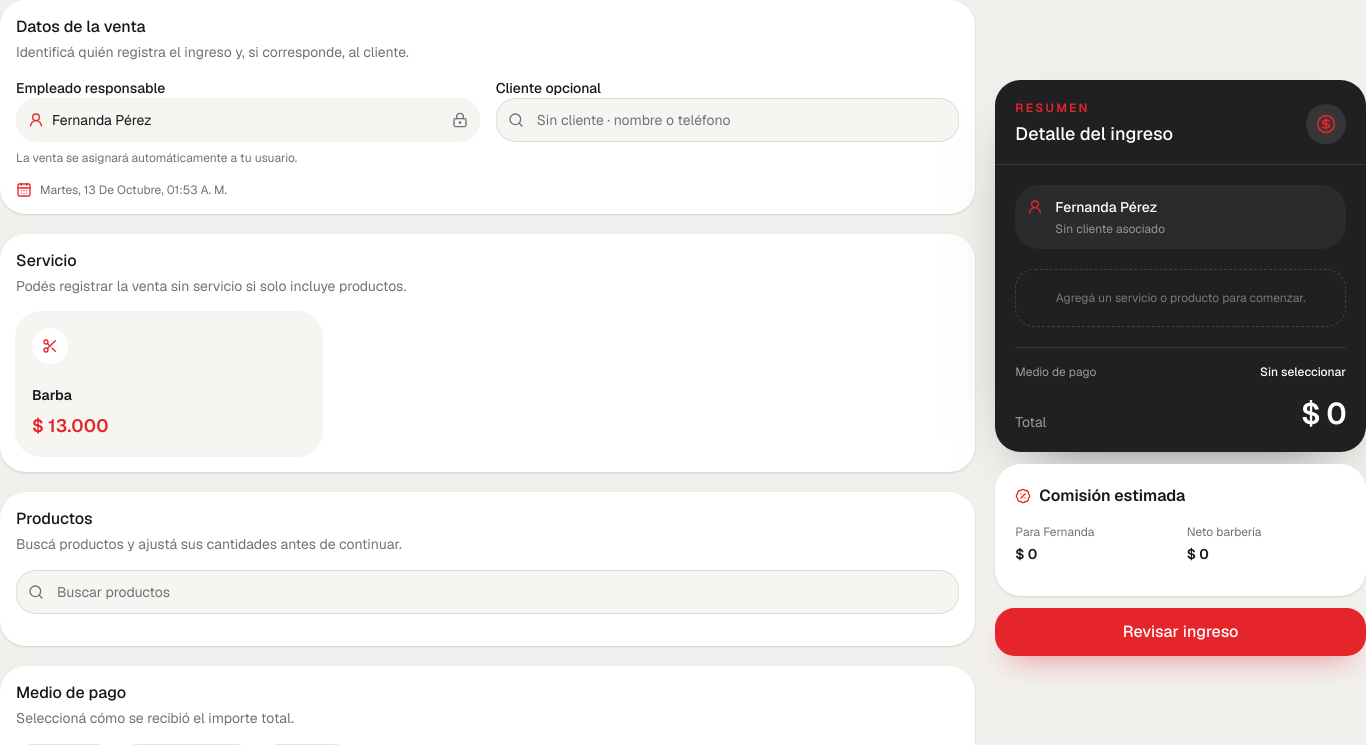
Test: IncomeForm (manager) › sends a generated request id and no actor, total or date
Click the button "Barba $ 13.000".
click(50, 346)  # box x1=16 y1=312 x2=322 y2=456
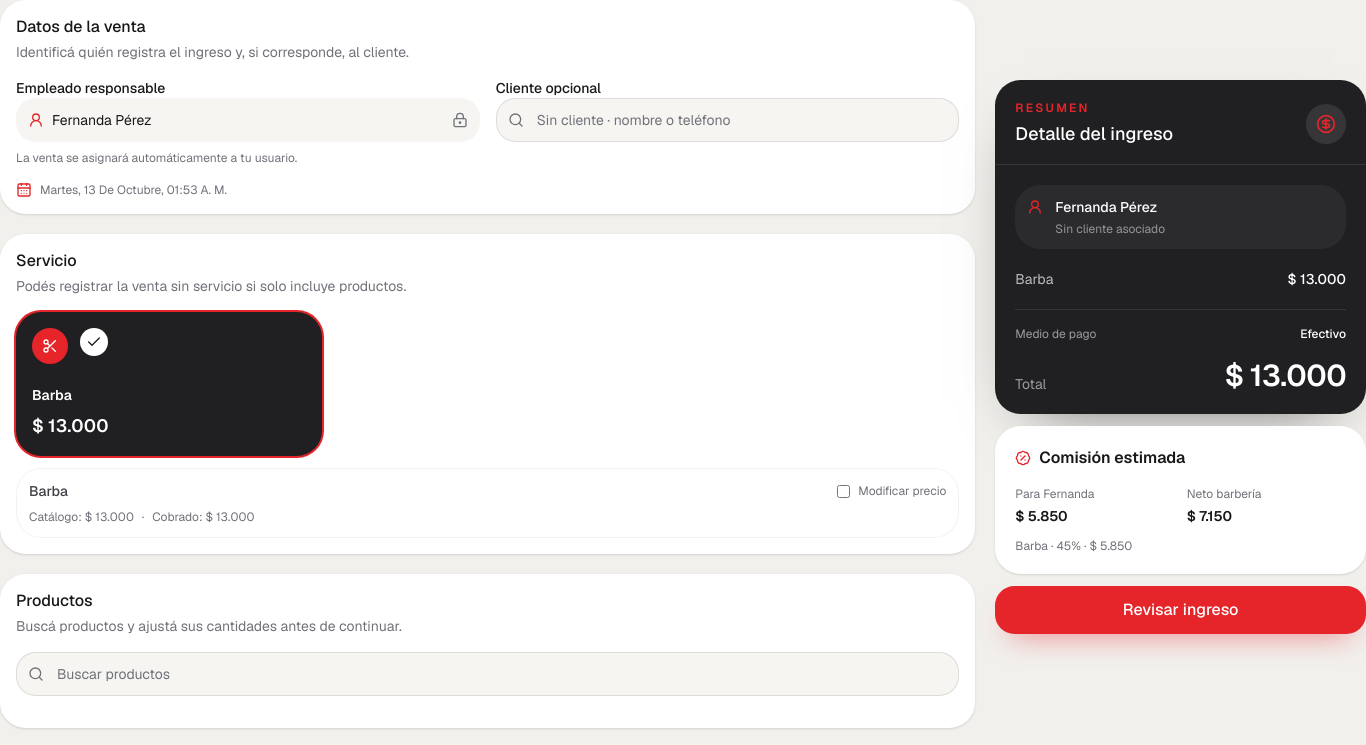
Click the button "Revisar ingreso".
click(1181, 610)  # box x1=995 y1=586 x2=1365 y2=634
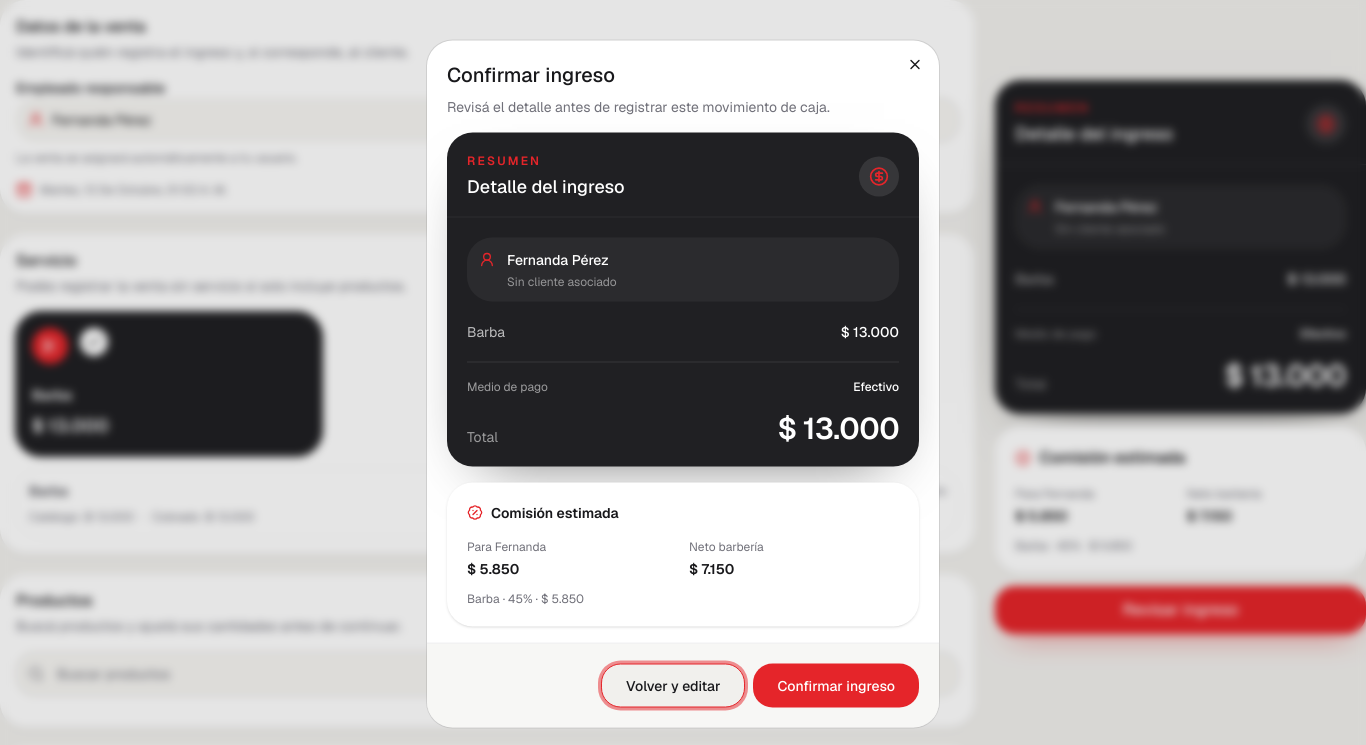
Click the button "Confirmar ingreso".
click(836, 686)  # box x1=754 y1=664 x2=919 y2=708
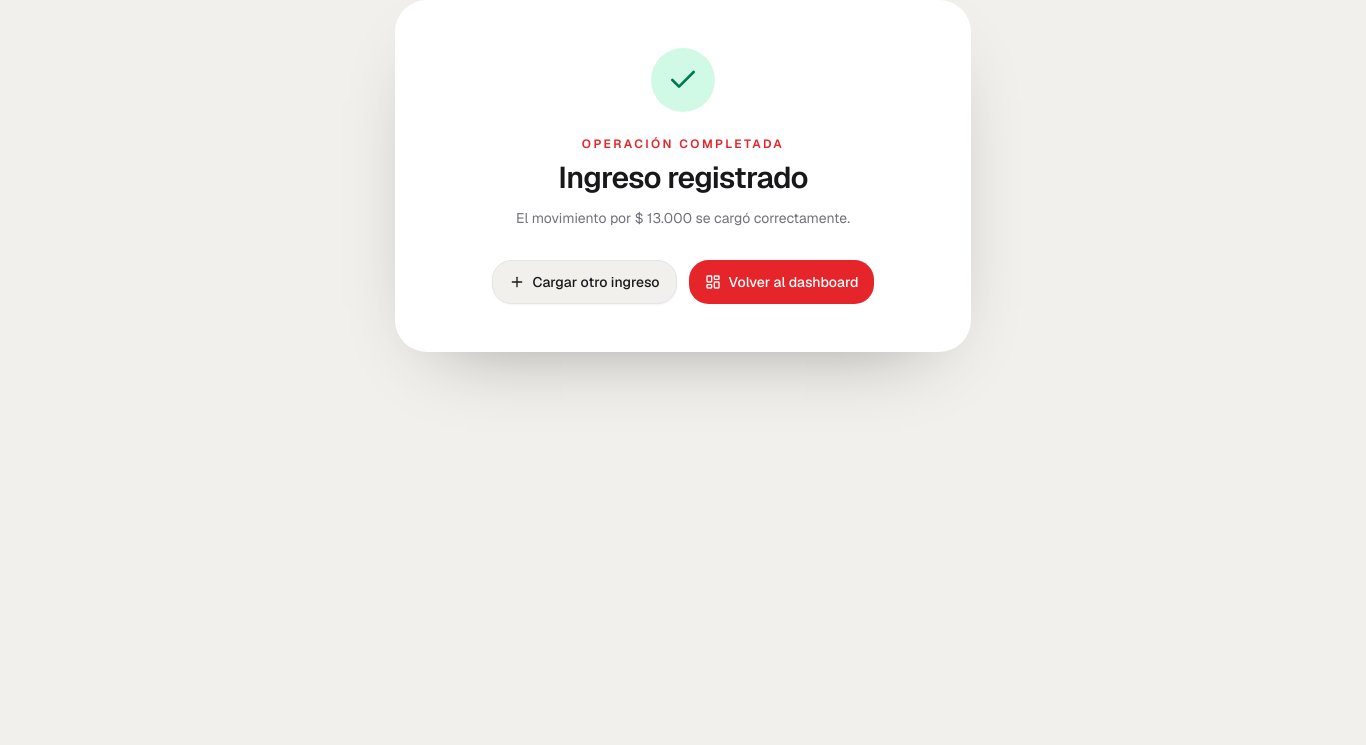
Expected: the heading "Ingreso registrado" is shown, x1=558 y1=160 x2=808 y2=196
